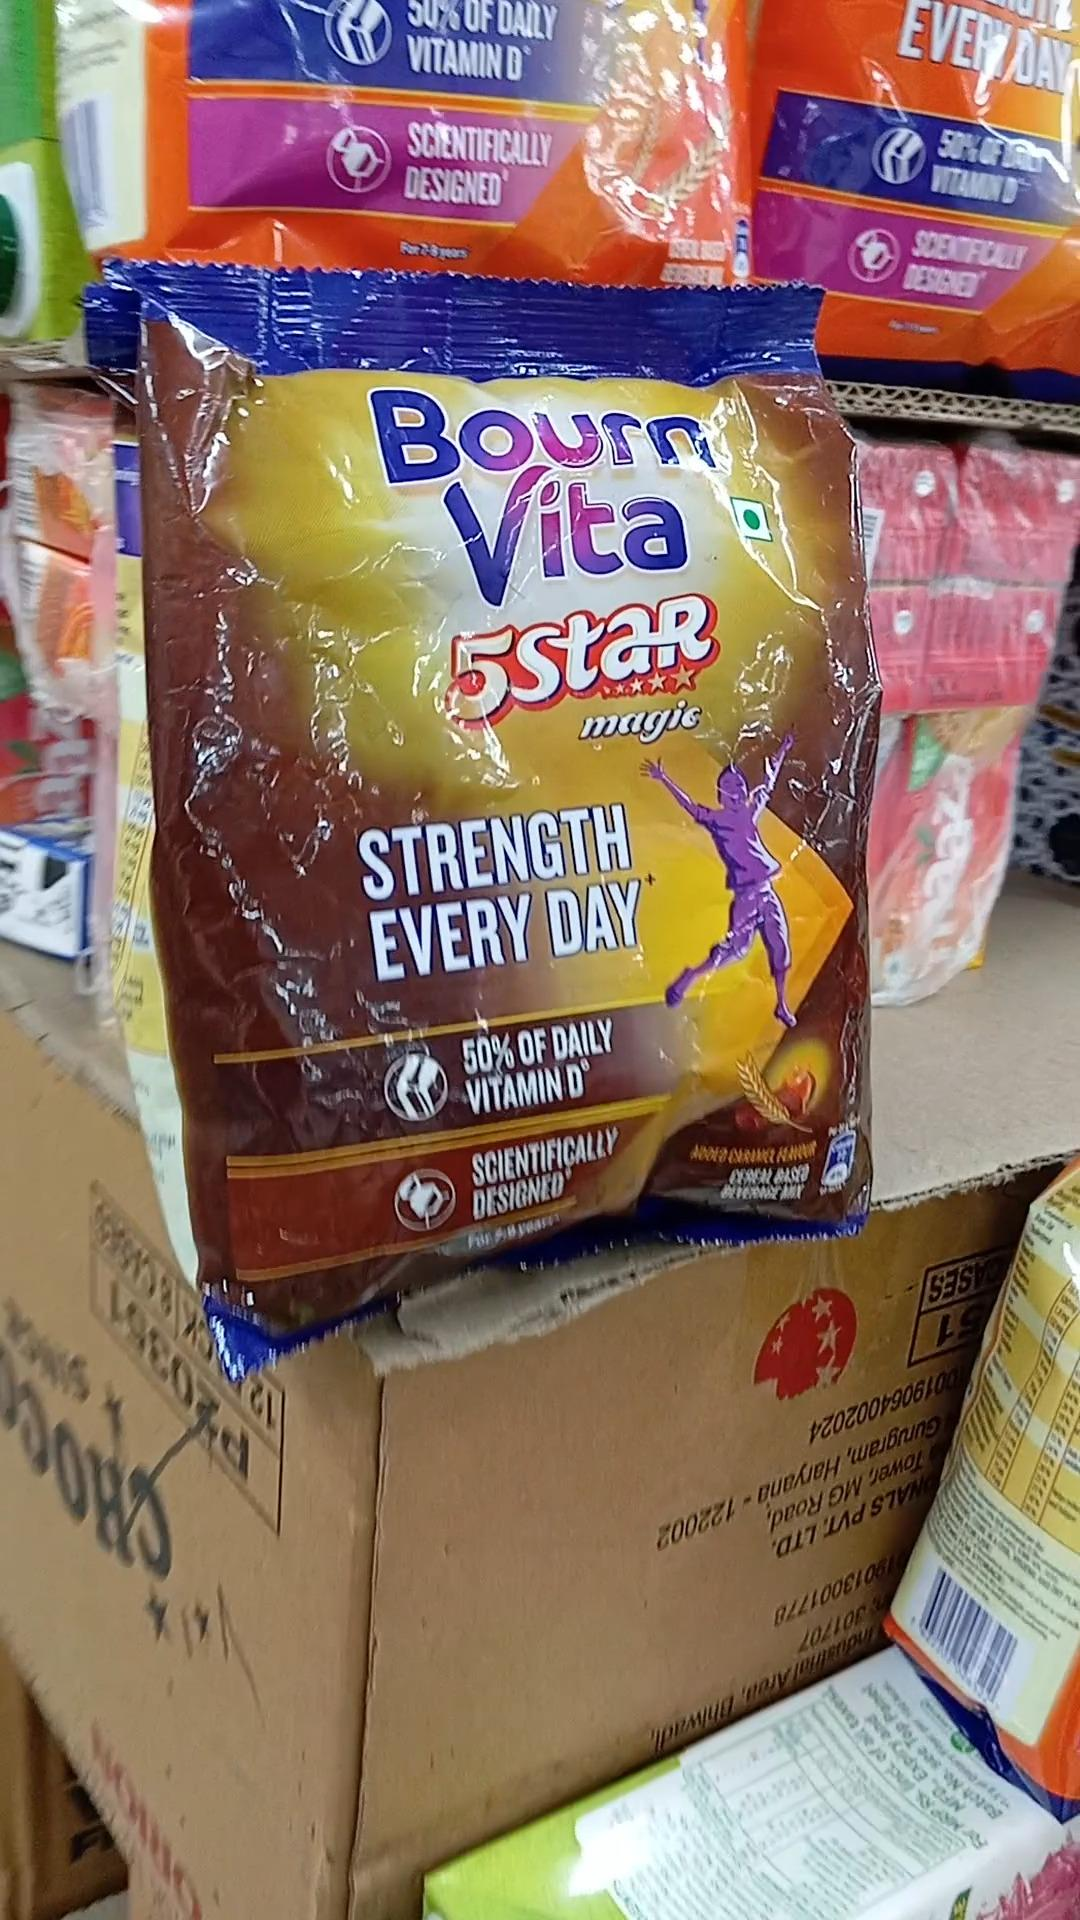BOURN_VITA_FIVE_STAR_MAGIC_500_G_POUCH: (182, 273, 878, 1253)
